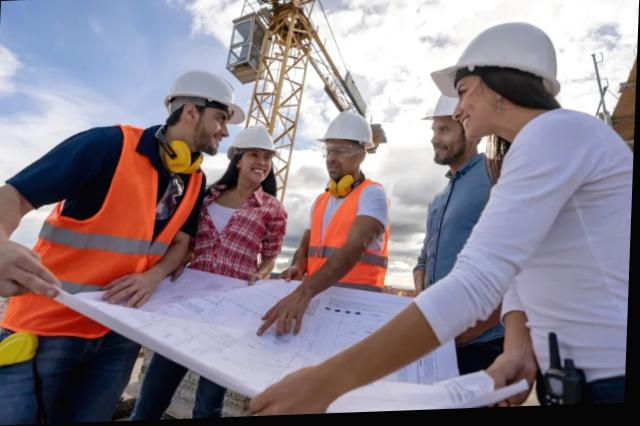helmet: (429, 24, 572, 93), (158, 71, 262, 115), (411, 81, 486, 132), (310, 106, 388, 148), (224, 124, 280, 157)
vest: (10, 123, 205, 338), (299, 174, 393, 289)
